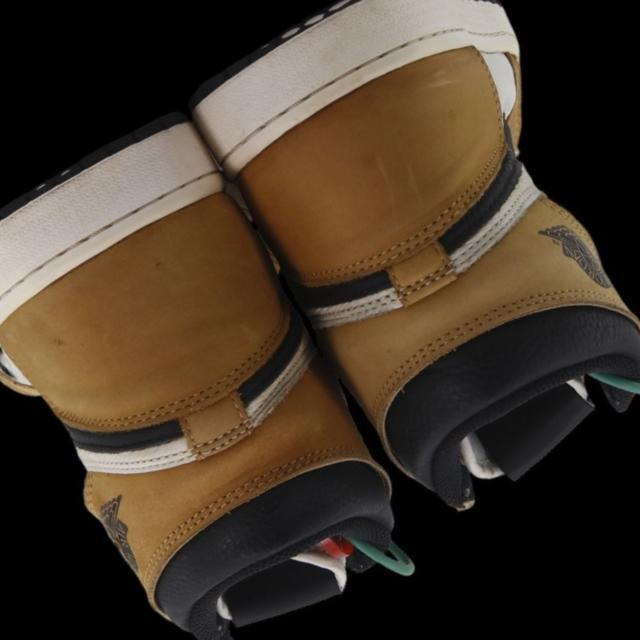nike original jordan 1: (0, 95, 442, 640)
